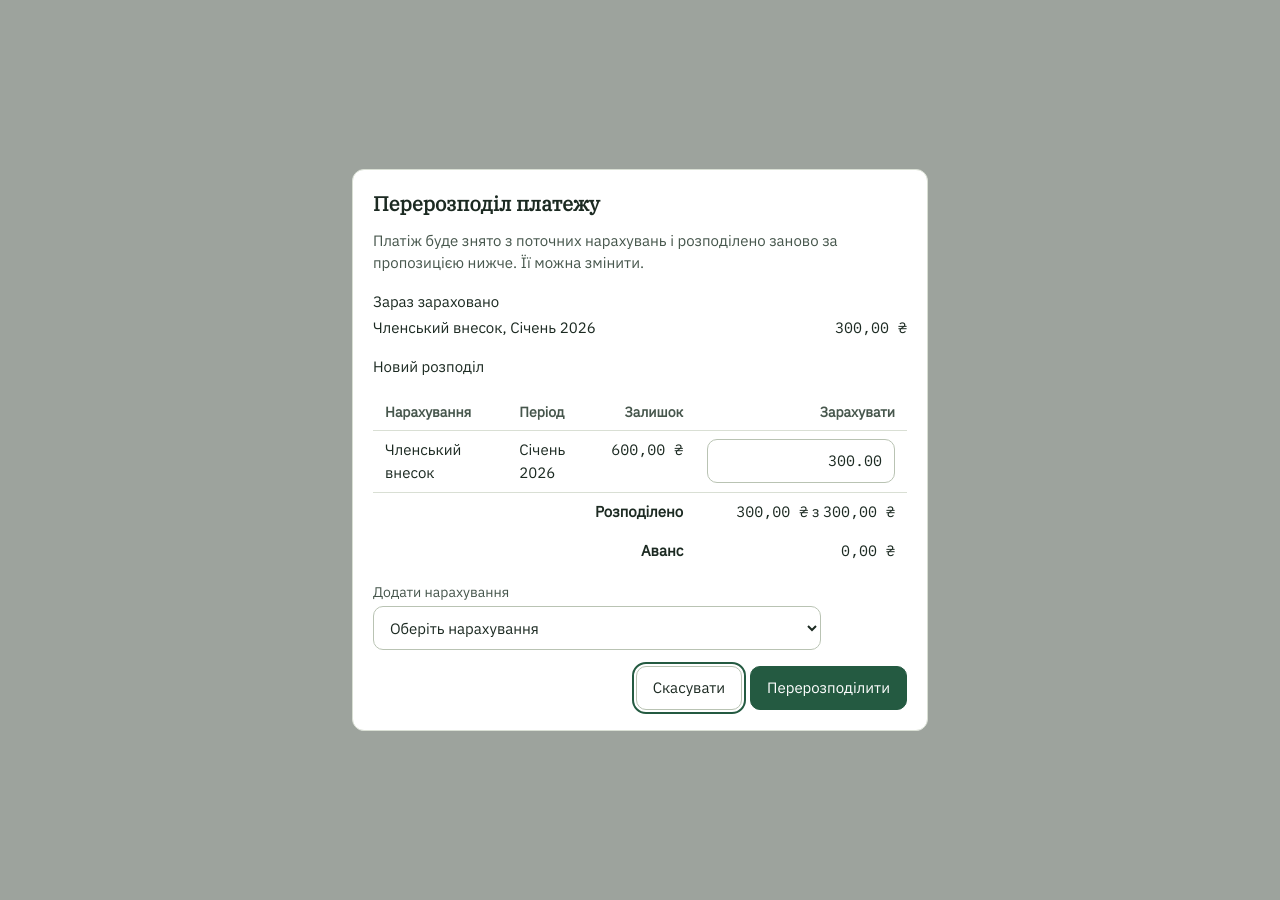
ReallocateDialog › shows a server error above the table, never instead of it
Clear the field named "Сума до зарахування: Членський внесок" at (801, 461), box [707,439,895,483]
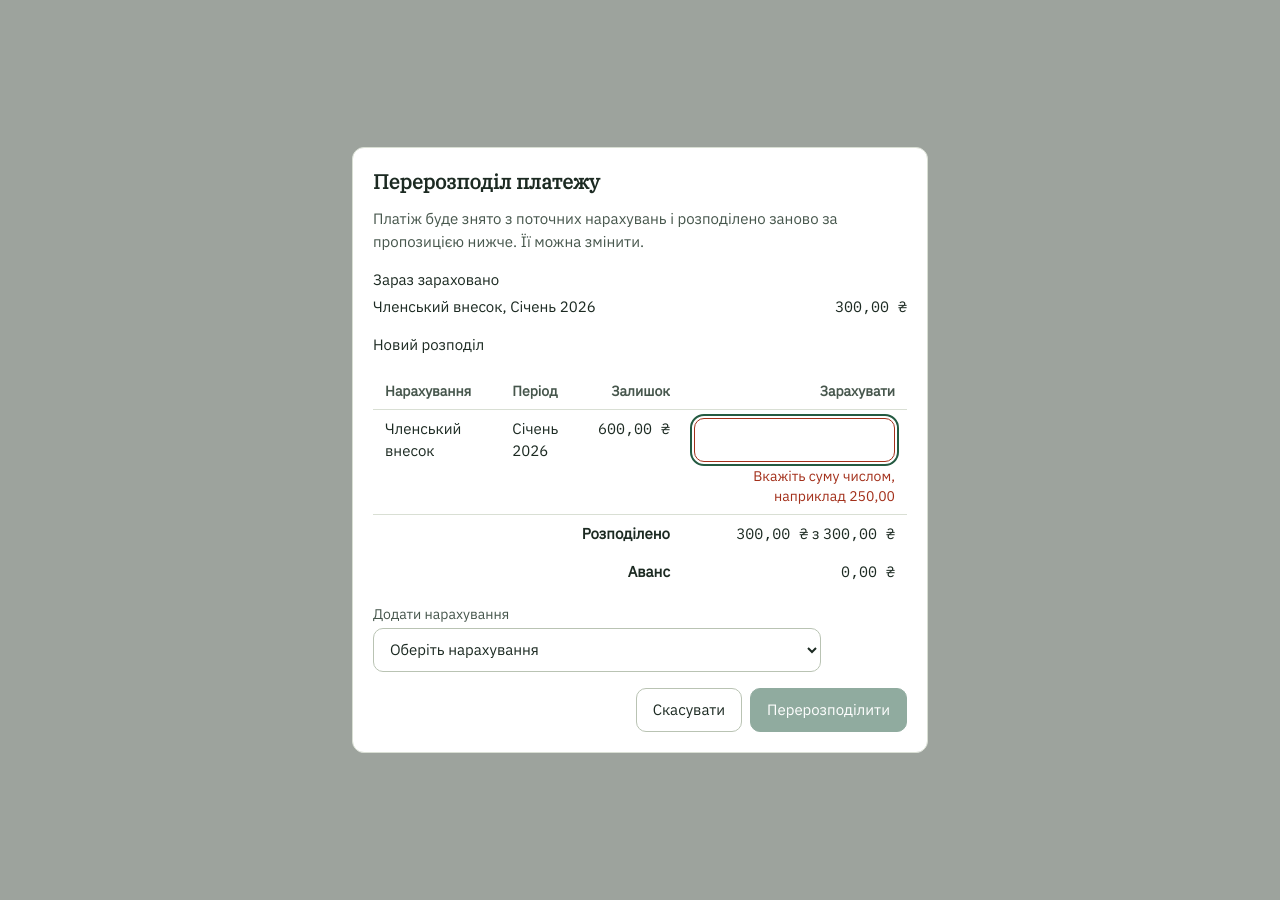
Type "100" into the field named "Сума до зарахування: Членський внесок" at (794, 440), box [694,418,895,462]
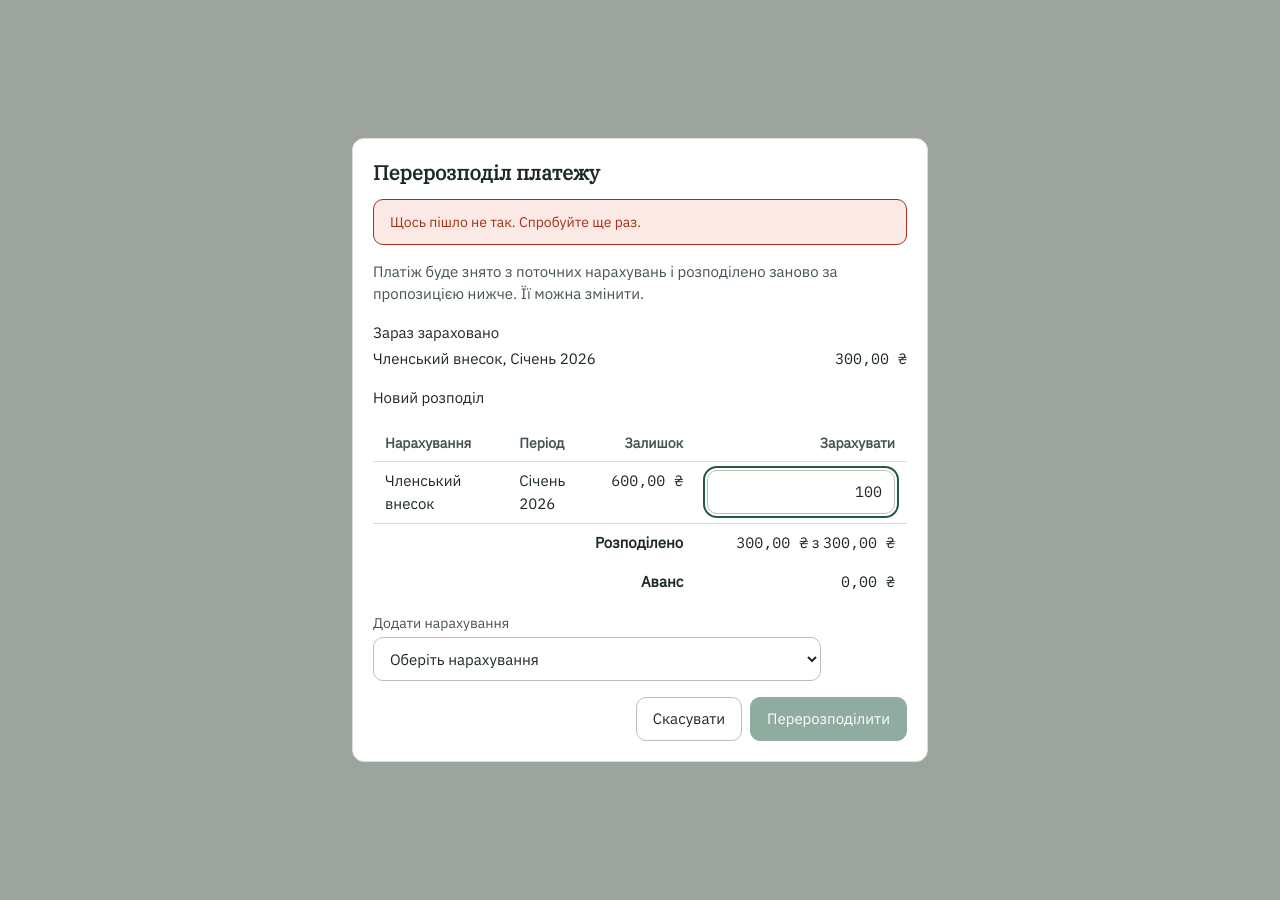
Now the button "Перерозподілити" is disabled, box [750,697,907,741]
Now the message "Щось пішло не так. Спробуйте ще раз." is shown, box [373,199,907,245]
